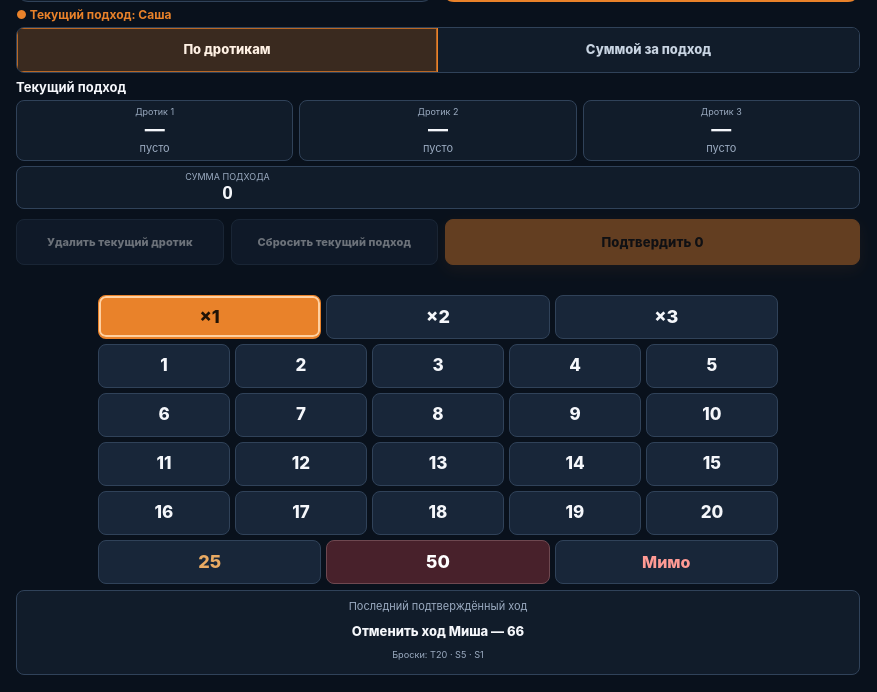
Scenario: confirmed visit undo › names the player and score while keeping current-draft editing actions distinct
The image size is (877, 692).
(page scrolled)
Check: the text "Последний подтверждённый ход" is shown, box [349,599,527,613]
Check: the text "Броски: T20 · S5 · S1" is shown, box [392,649,484,666]
Click the button with aria-label "Отменить подтверждённый ход Миша — 66".
click(438, 631)  # box [352,615,524,647]
(page scrolled)
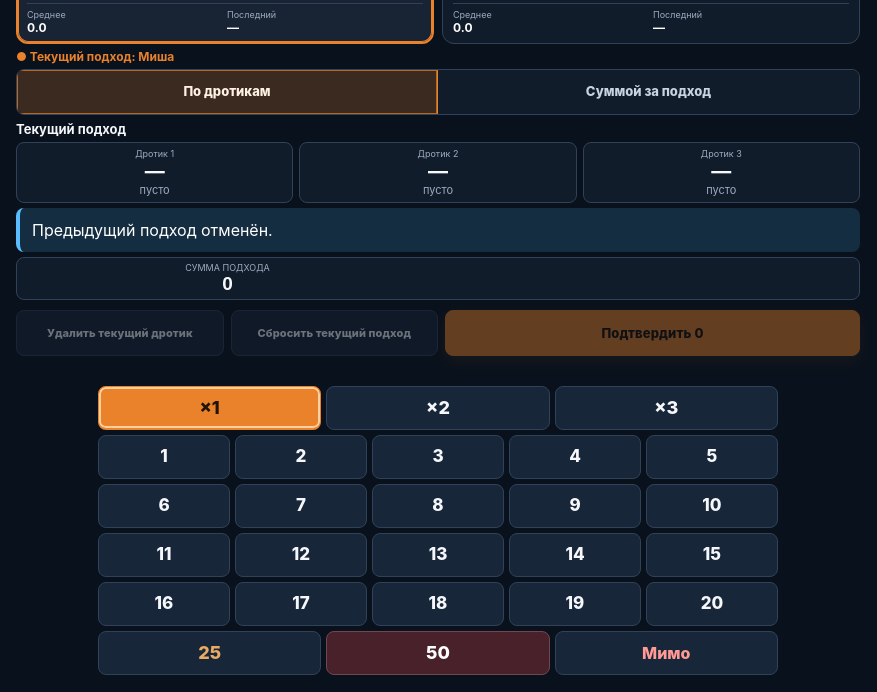
Check: the text "Последний подтверждённый ход" is gone
